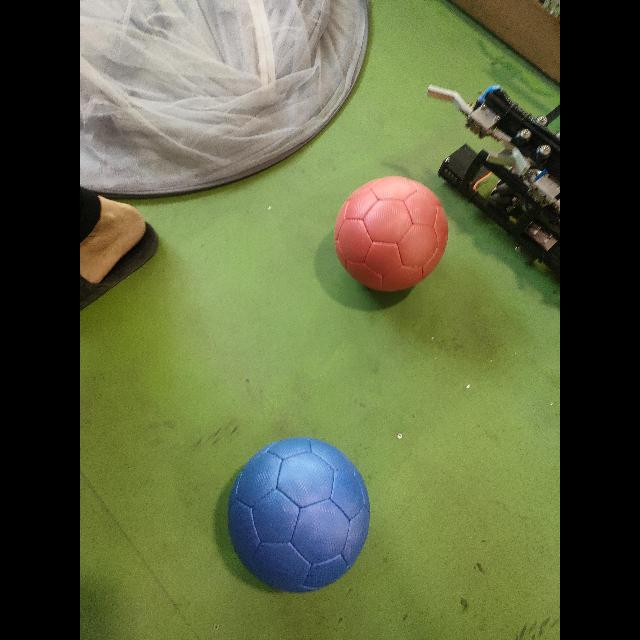B: (219, 437, 371, 596)
R: (333, 176, 449, 295)
